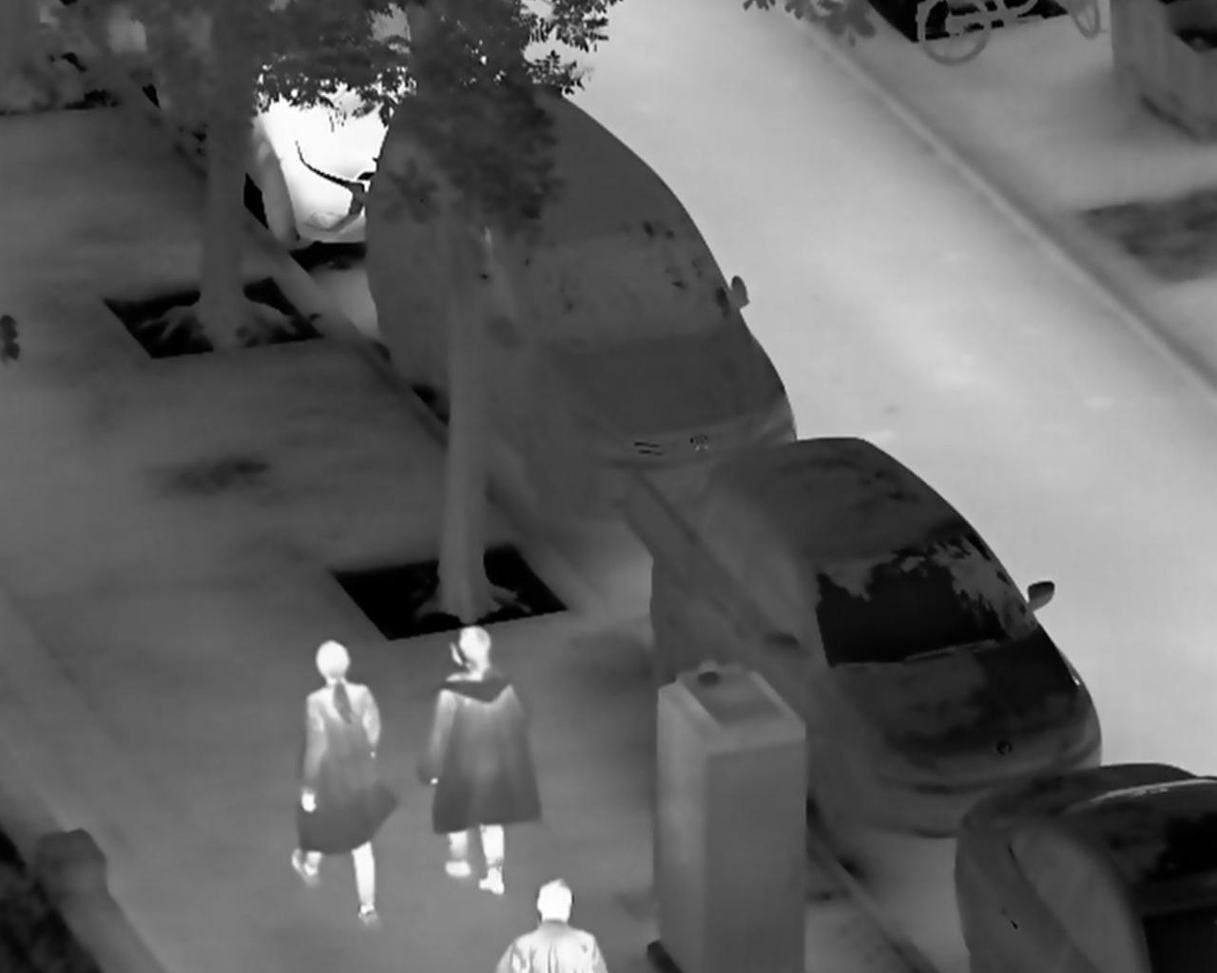person: (414, 624, 546, 900), (285, 634, 405, 935)
